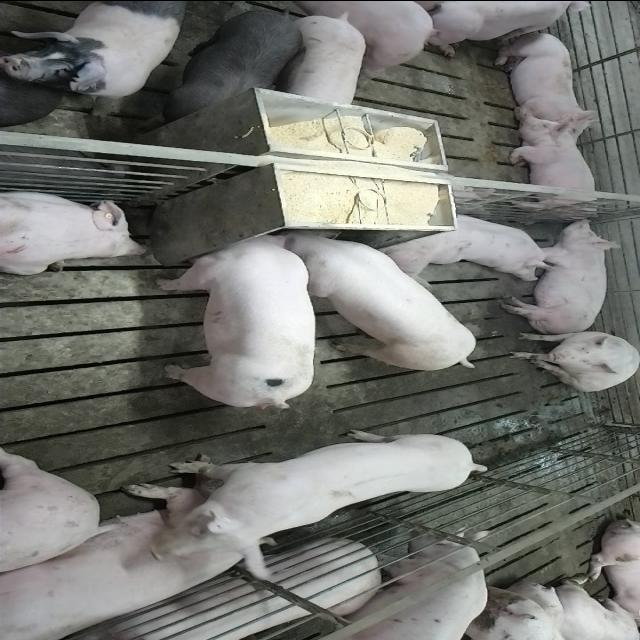Feeding: (276, 228, 480, 375), (156, 231, 318, 413)
Lateral_lying: (498, 216, 626, 334)
Sitting: (506, 328, 638, 391)
Standing: (152, 428, 482, 584), (145, 2, 303, 126), (296, 539, 486, 640), (21, 4, 183, 116), (298, 0, 444, 73), (280, 10, 366, 109)
Sternal_lying: (6, 491, 266, 640), (0, 187, 151, 275), (380, 207, 570, 276), (491, 28, 598, 130), (504, 112, 604, 216), (400, 3, 604, 52)
